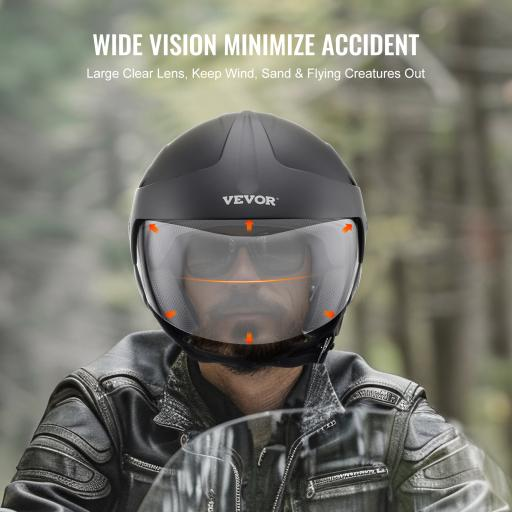helmet-detection: (114, 97, 379, 380), (122, 100, 376, 363)
